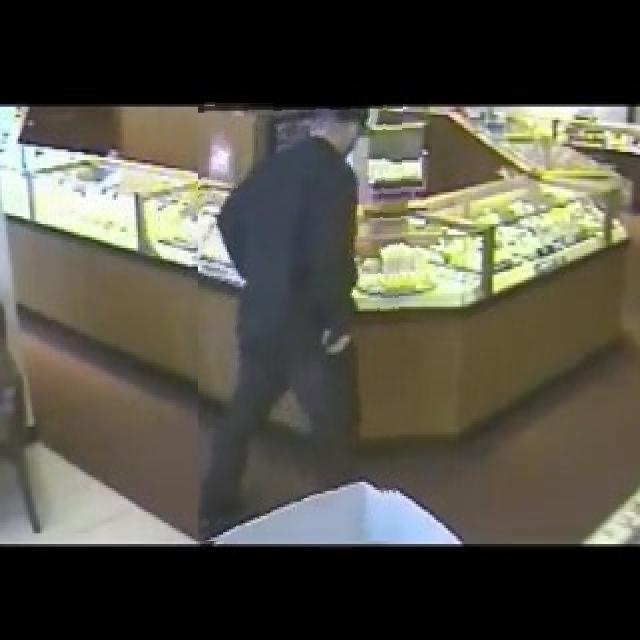normal: (198, 100, 401, 541)
